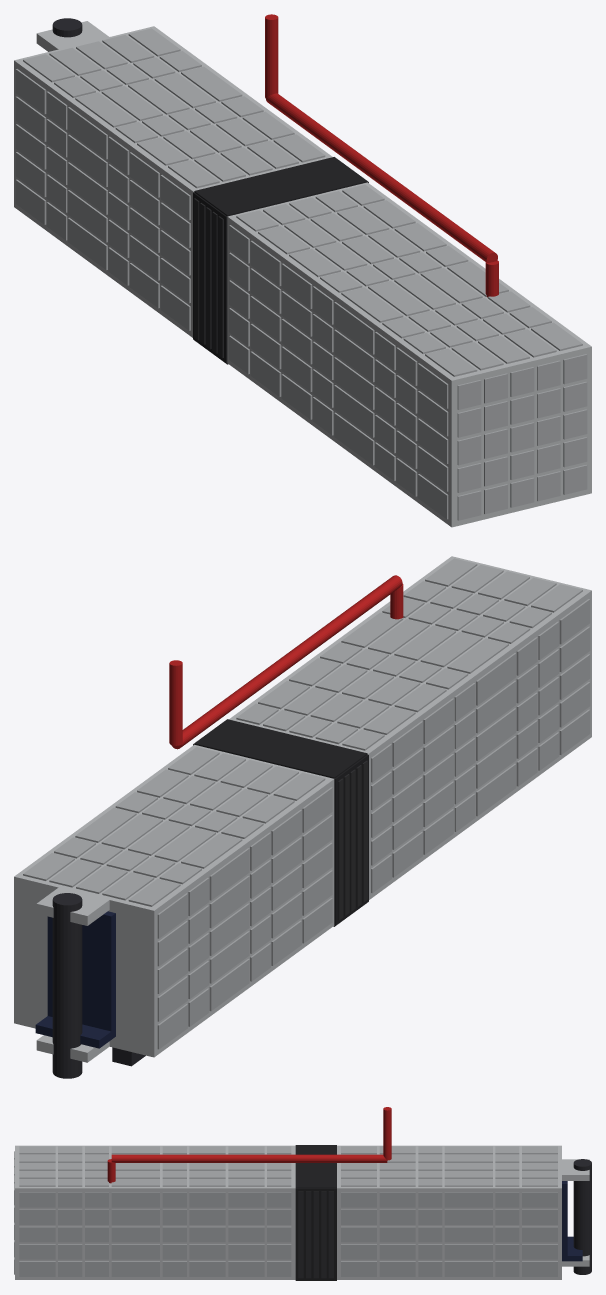
Rendered from leg_left_link.obj.
3 renders of one model, top to bottom at view 1: azimuth 30°, elevation 25°; view 2: azimuth 150°, elevation 25°; view 3: azimuth 270°, elevation 25°, orthographic. The views are drawn at different scales.
Size of the model in its own units: 0.0456 by 0.086 by 0.2515.
